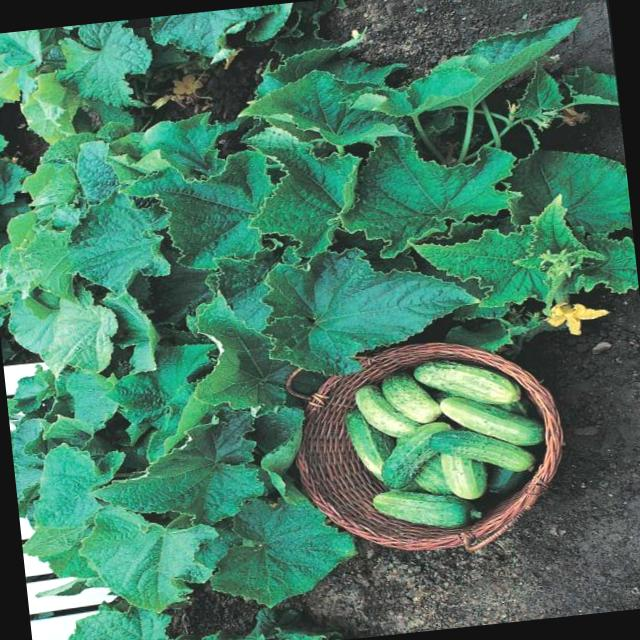Cucumber: (438, 385, 544, 453), (413, 350, 522, 412), (428, 419, 538, 480), (376, 419, 462, 491), (370, 480, 476, 534), (380, 368, 445, 428)
